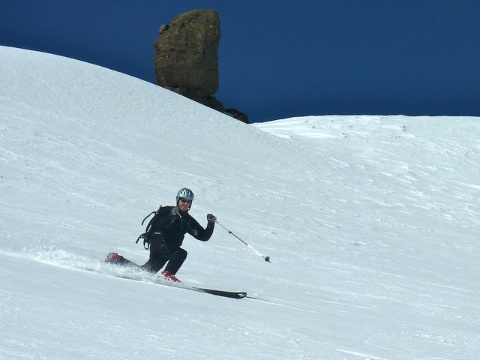hand: (206, 212, 217, 224)
